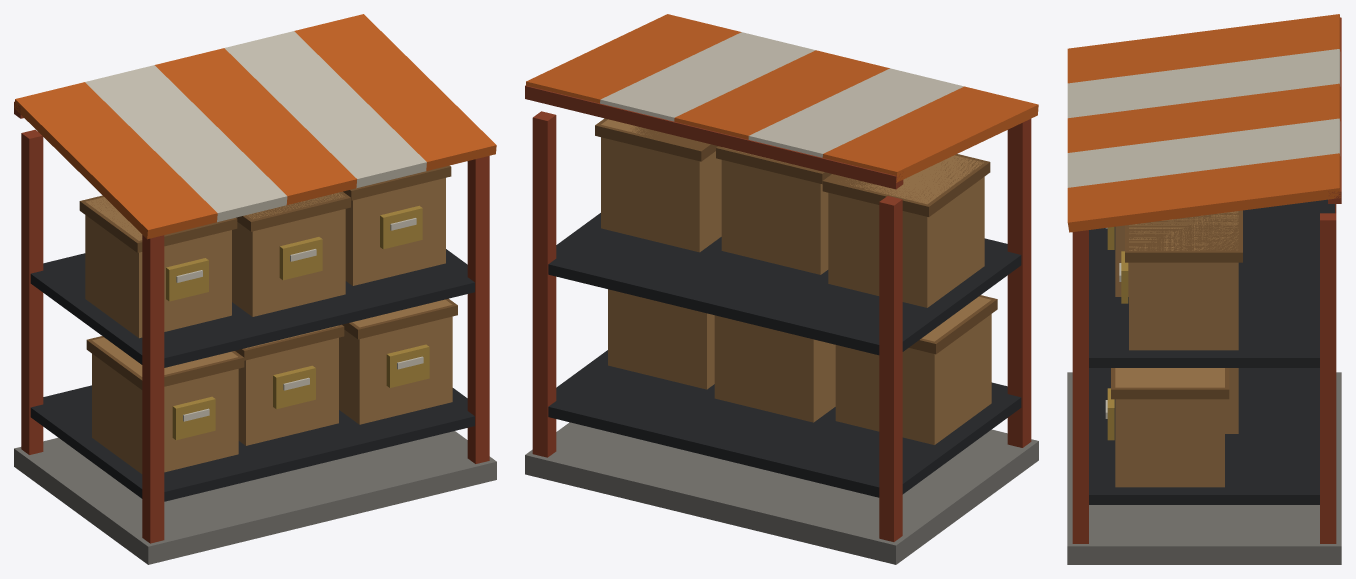
The model's file is poi_tag_rack.glb.
3 views of the same model, side by side, from view 1: azimuth 30°, elevation 25°; view 2: azimuth 150°, elevation 25°; view 3: azimuth 270°, elevation 25° (orthographic). The views are drawn at different scales.
Visible parts, largest first — view 1: TagRack; view 2: TagRack; view 3: TagRack.
Boxes of the visible parts, box(x1,y1,x2,y2) form: TagRack: box(14, 14, 496, 564); TagRack: box(525, 14, 1038, 564); TagRack: box(1067, 14, 1341, 564).
Size of the model in its own units: 3 by 3.03 by 2.
